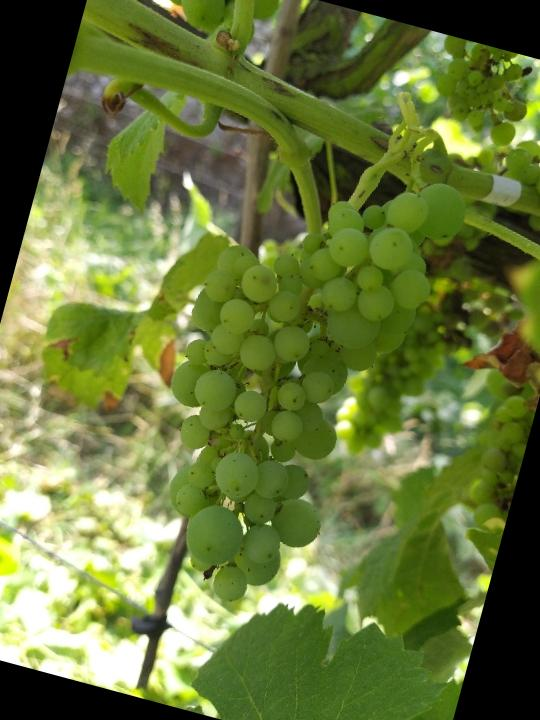grape: (118, 127, 474, 637)
